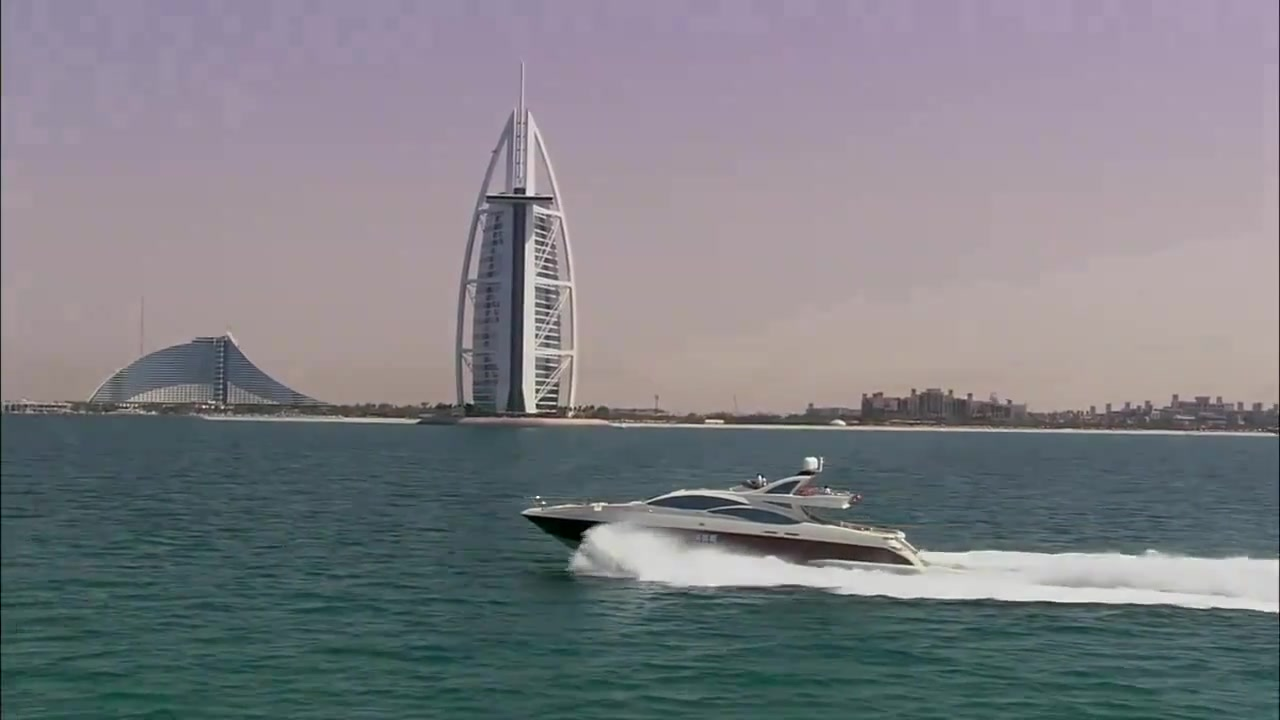boat: (517, 452, 936, 584), (408, 401, 475, 431)
